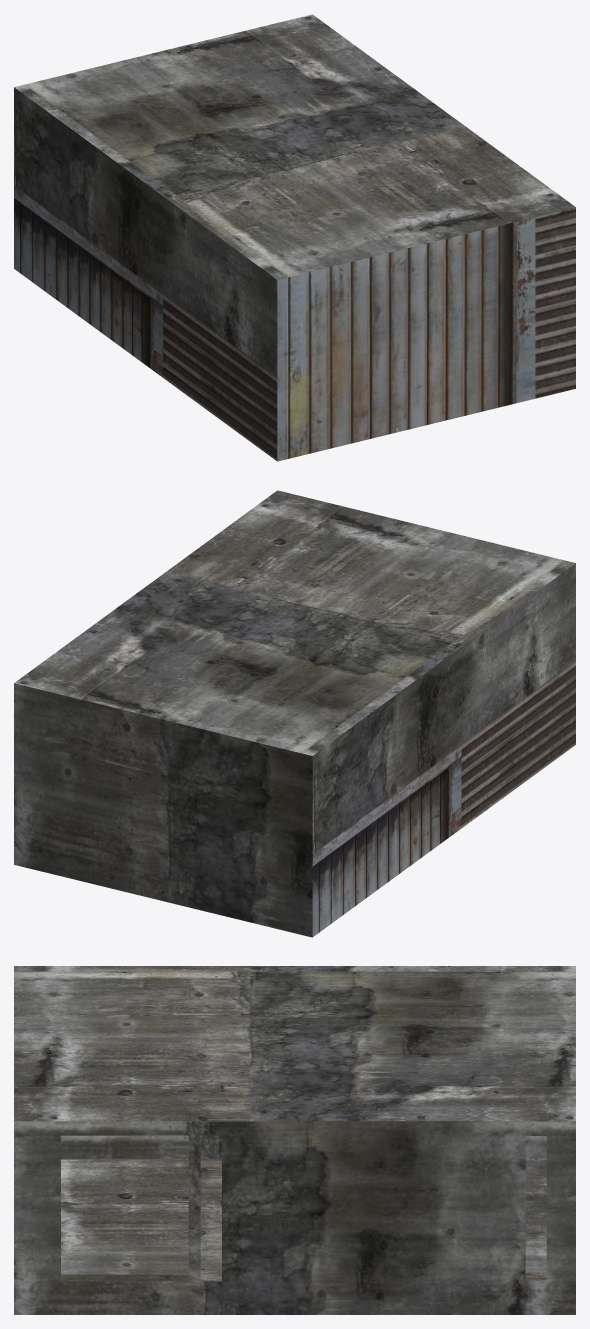
The picture shows the model from 3 angles, top to bottom: view 1: azimuth 30°, elevation 25°; view 2: azimuth 150°, elevation 25°; view 3: azimuth 270°, elevation 25°; orthographic projection. The views are drawn at different scales.
Parts seen in each view (by area): view 1: Cube.069; view 2: Cube.069; view 3: Cube.069.
Boxes of the visible parts, left/top/right/bottom form: Cube.069: left=14, top=14, right=575, bottom=461; Cube.069: left=14, top=490, right=575, bottom=937; Cube.069: left=14, top=966, right=575, bottom=1314.
Bounding box in the file's own units: 1.19 × 0.6945 × 1.83.
1 material, 1 textured.
